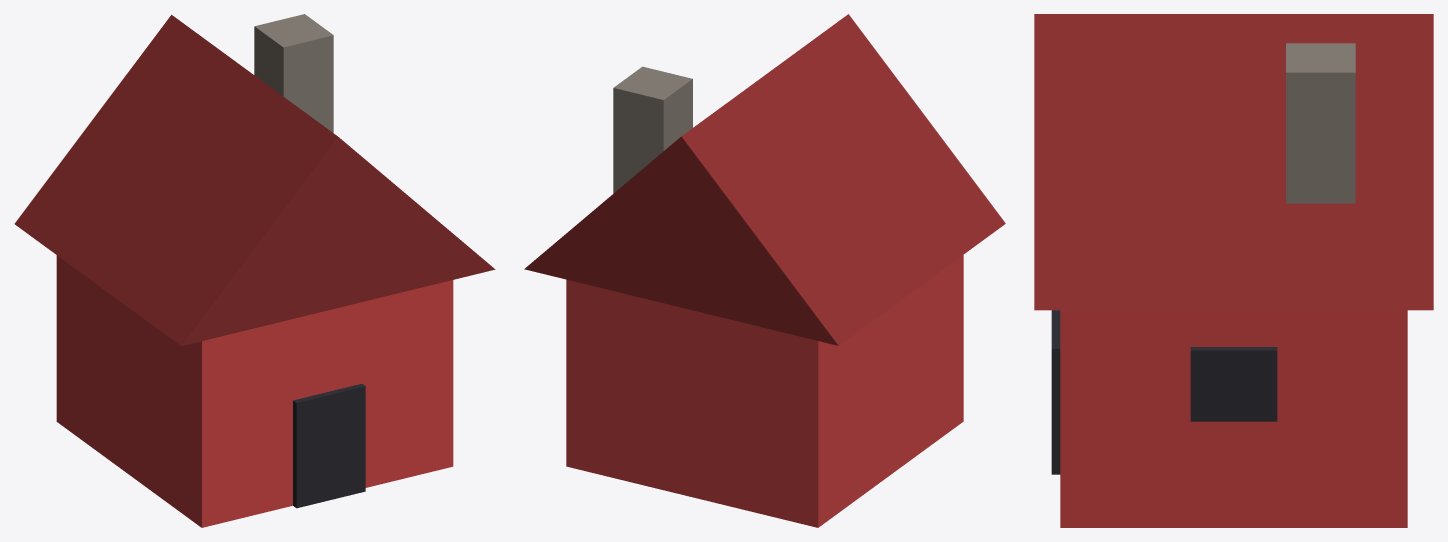
The model's file is settlement.glb.
3 renders of one model, left to right at view 1: azimuth 30°, elevation 25°; view 2: azimuth 150°, elevation 25°; view 3: azimuth 270°, elevation 25°, orthographic. The views are drawn at different scales.
Visible parts, largest first — view 1: settlement; view 2: settlement; view 3: settlement.
Part boxes in pixels (x1,y1,x2,y2): settlement: (14,14,495,527); settlement: (524,14,1005,527); settlement: (1034,14,1433,527).
Size of the model in its own units: 0.25 by 0.28 by 0.23.
